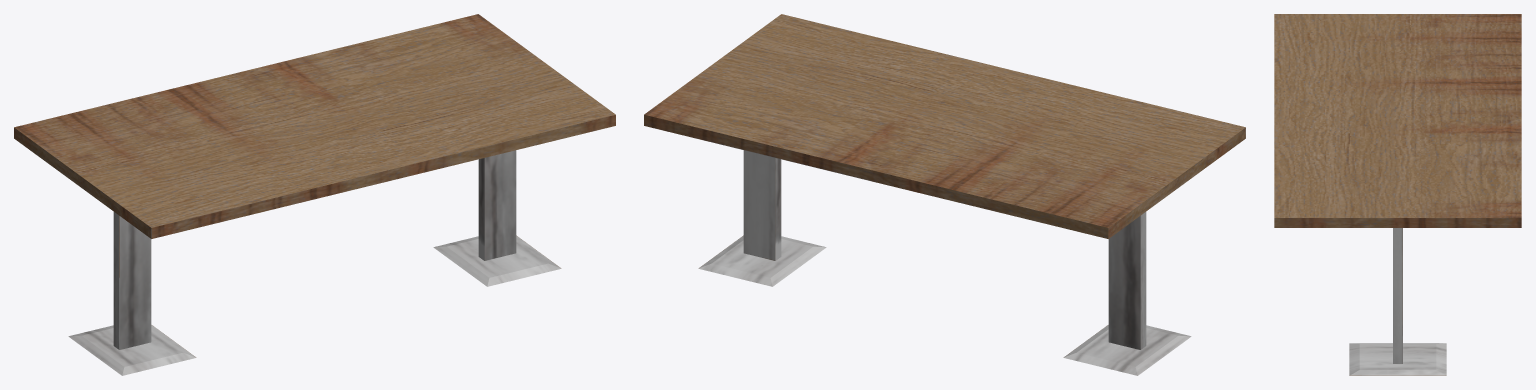
File: mesa variada.fbx
The picture shows the model from 3 angles, left to right: view 1: azimuth 30°, elevation 25°; view 2: azimuth 150°, elevation 25°; view 3: azimuth 270°, elevation 25°; orthographic projection. The views are drawn at different scales.
Parts seen in each view (by area): view 1: Cube; view 2: Cube; view 3: Cube.
Part boxes in pixels (bbox=[...]): Cube: bbox=[14, 14, 615, 375]; Cube: bbox=[644, 14, 1245, 375]; Cube: bbox=[1274, 14, 1521, 375].
Size of the model in its own units: 249 by 93.11 by 128.
